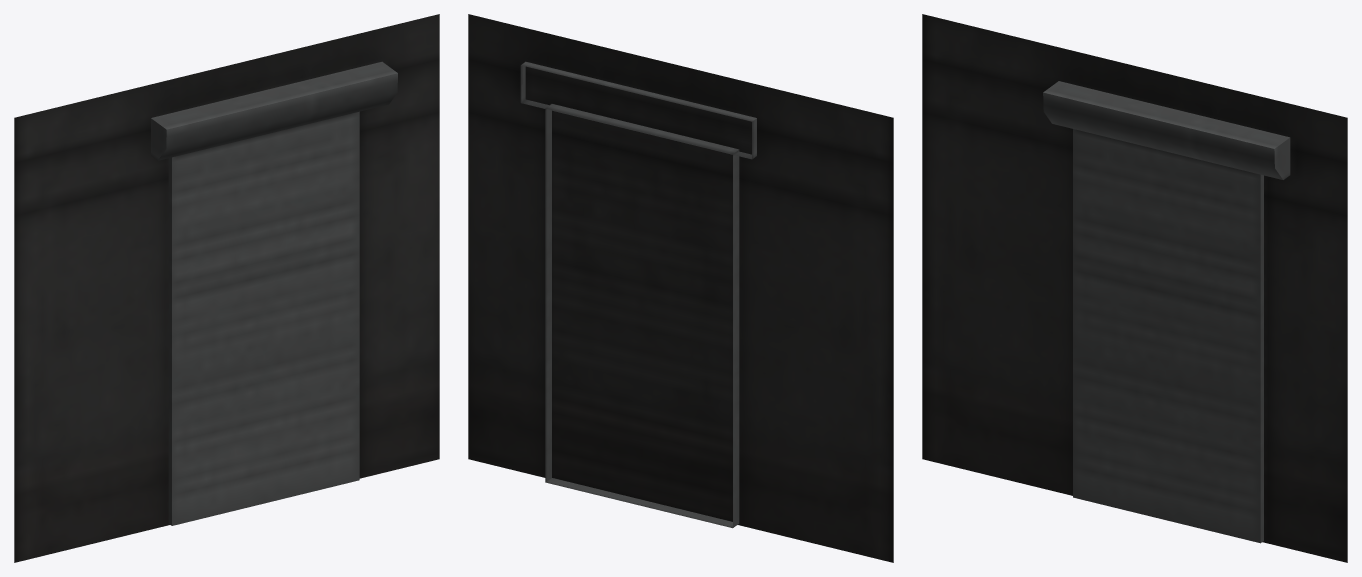
The model's file is B9_ClosedDoor.FBX.
3 views of the same model, side by side, from view 1: azimuth 30°, elevation 25°; view 2: azimuth 150°, elevation 25°; view 3: azimuth 330°, elevation 25° (orthographic).
Parts seen in each view (by area): view 1: B9_ClosedDoor; view 2: B9_ClosedDoor; view 3: B9_ClosedDoor.
Boxes of the visible parts, left/top/right/bottom form: B9_ClosedDoor: left=14, top=14, right=439, bottom=562; B9_ClosedDoor: left=468, top=14, right=893, bottom=562; B9_ClosedDoor: left=922, top=14, right=1347, bottom=562.
Size of the model in its own units: 4 by 4 by 0.3631.
